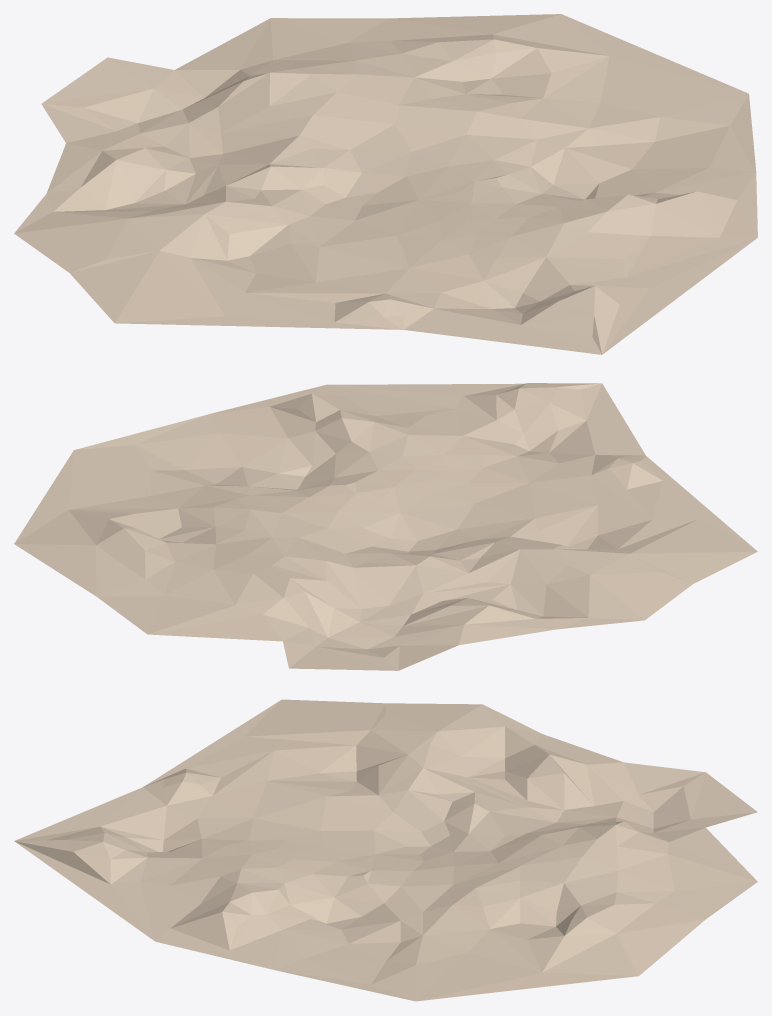
The model's file is Terrain_SandField_007.fbx.
3 renders of one model, top to bottom at view 1: azimuth 30°, elevation 25°; view 2: azimuth 150°, elevation 25°; view 3: azimuth 270°, elevation 25°, orthographic. The views are drawn at different scales.
Parts seen in each view (by area): view 1: Terrain_SandField_007; view 2: Terrain_SandField_007; view 3: Terrain_SandField_007.
Boxes of the visible parts, <box> form: Terrain_SandField_007: <box>14,14,757,354</box>; Terrain_SandField_007: <box>14,383,757,670</box>; Terrain_SandField_007: <box>14,699,757,1001</box>.
Size of the model in its own units: 38.8 by 2.15 by 40.41.
